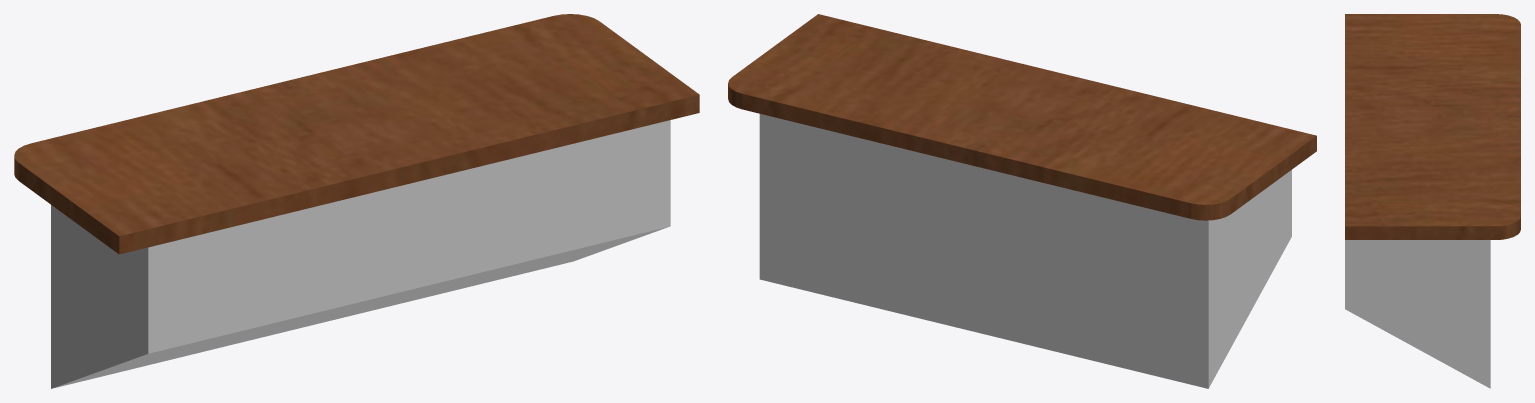
The model's file is StepFull.glb.
3 views of the same model, side by side, from view 1: azimuth 30°, elevation 25°; view 2: azimuth 150°, elevation 25°; view 3: azimuth 270°, elevation 25° (orthographic). The views are drawn at different scales.
Visible parts, largest first — view 1: 3DGeom-2, Cube; view 2: Cube, 3DGeom-2; view 3: 3DGeom-2, Cube.
Part boxes in pixels (left/top/right/bottom): 3DGeom-2: left=14, top=14, right=699, bottom=254; Cube: left=51, top=120, right=670, bottom=388; Cube: left=759, top=114, right=1291, bottom=388; 3DGeom-2: left=728, top=14, right=1316, bottom=220; 3DGeom-2: left=1345, top=14, right=1520, bottom=239; Cube: left=1345, top=240, right=1490, bottom=388.
Size of the model in its own units: 1 by 0.38 by 0.35.
2 materials, 1 textured.
